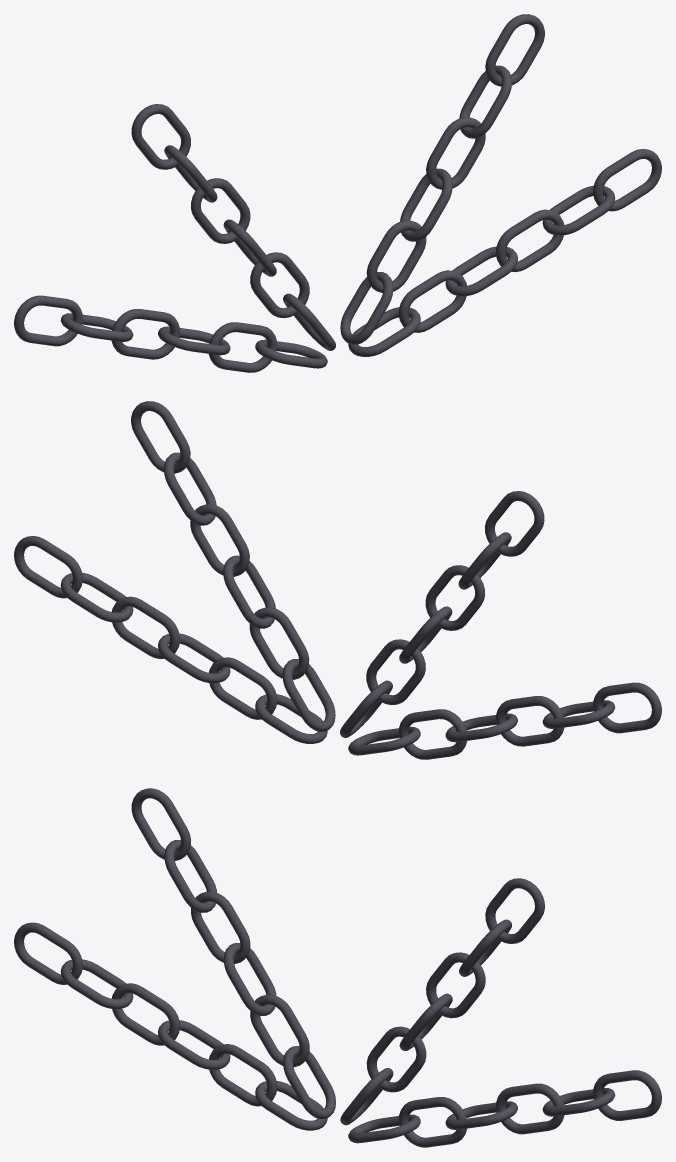
The model's file is Chain.fbx.
3 renders of one model, top to bottom at view 1: azimuth 30°, elevation 25°; view 2: azimuth 150°, elevation 25°; view 3: azimuth 330°, elevation 25°, orthographic.
Visible parts, largest first — view 1: Chains; view 2: Chains; view 3: Chains.
Boxes of the visible parts, x1,y1,x2,y2 form: Chains: (14,14,661,372); Chains: (14,401,661,759); Chains: (14,788,661,1147).
Size of the model in its own units: 6039 by 2665 by 409.
Materials: 1 (1 with a texture image).
